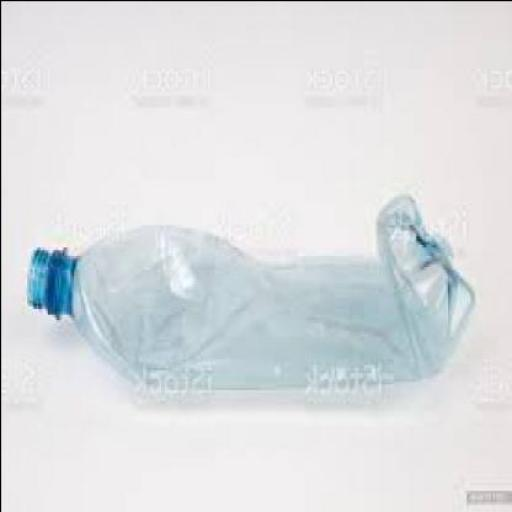plastic: (30, 194, 476, 386)
